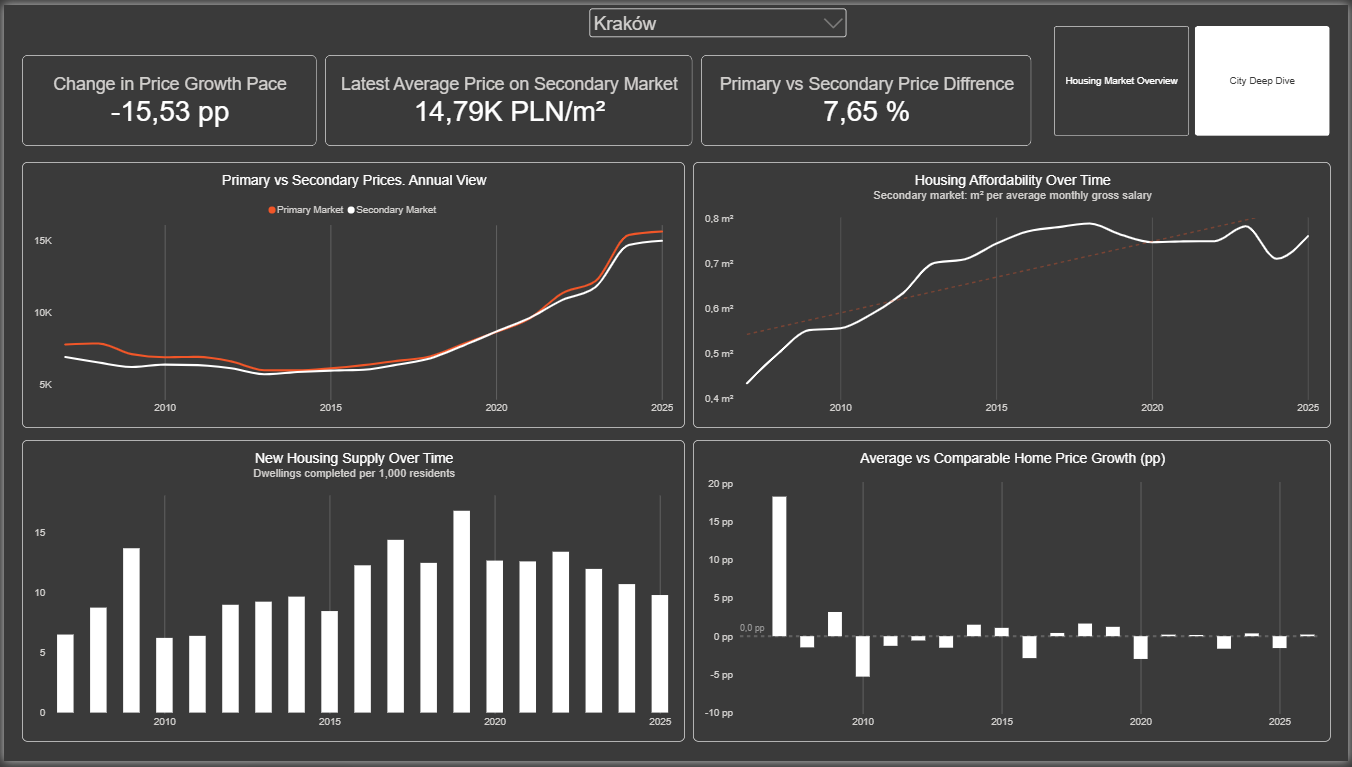

The dashboard page shown, as its layout file describes it:
{"tool":"powerbi","page":{"name":"City Deep Dive","canvas":[1920,1080],"ordinal":1},"visuals":[{"type":"pageNavigator","box":[1500,30,395.7,157.1],"z":0},{"type":"slicer","title":"City","fields":{"Values":["dim_city.city_name"]},"box":[831.4,0,377.1,81.4],"z":1000},{"type":"lineChart","title":"Primary vs Secondary Prices. Annual View","fields":{"Category":["dim_year.year"],"Y":["Avg(fact_city_year.primary_annual_transaction_price_pln_m2)","Avg(fact_city_year.secondary_annual_transaction_price_pln_m2)"]},"box":[25.7,224.3,947.1,380],"z":2000},{"type":"lineChart","title":"Housing Affordability Over Time","fields":{"Category":["dim_year.year"],"Y":["Avg(fact_city_year.secondary_affordability_m2)"]},"box":[984.3,224.3,911.4,380],"z":3000},{"type":"columnChart","title":"New Housing Supply Over Time","fields":{"Category":["dim_year.year"],"Y":["Avg(fact_city_year.completed_per_1000)"]},"box":[25.7,621.4,947.1,431.4],"z":4000},{"type":"columnChart","title":"Average vs Comparable Home Price Growth (pp)","fields":{"Category":["dim_nbp_period.nbp_year"],"Y":["Avg(fact_hedonic_period.headline_minus_hedonic_yoy_pp)"]},"box":[984.3,621.4,911.4,431.4],"z":5000},{"type":"cardVisual","title":"Change in Price Growth Pace","fields":{"Data":["_Measures.Secondary Price Momentum"]},"box":[25.7,71.4,421.4,130],"z":6000},{"type":"cardVisual","title":"Latest Average Price on Secondary Market","fields":{"Data":["_Measures.Latest Secondary Price"]},"box":[458.6,71.4,525.7,130],"z":7000},{"type":"cardVisual","title":"Latest Average Price on Secondary Market","fields":{"Data":["_Measures.Primary vs Secondary Price Gap"]},"box":[995.7,71.4,472.9,130],"z":8000}]}

Visuals, with their boxes in screenshot pixels (x1, y1, x2, y2), scaled from the page's 1920x1080 canvas onto the 1352x767 screenshot:
pageNavigator: box(1056, 21, 1335, 133)
"City" slicer: box(585, 0, 851, 58)
"Primary vs Secondary Prices. Annual View" lineChart: box(18, 159, 685, 429)
"Housing Affordability Over Time" lineChart: box(693, 159, 1335, 429)
"New Housing Supply Over Time" columnChart: box(18, 441, 685, 748)
"Average vs Comparable Home Price Growth (pp)" columnChart: box(693, 441, 1335, 748)
"Change in Price Growth Pace" cardVisual: box(18, 51, 315, 143)
"Latest Average Price on Secondary Market" cardVisual: box(323, 51, 693, 143)
"Latest Average Price on Secondary Market" cardVisual: box(701, 51, 1034, 143)
